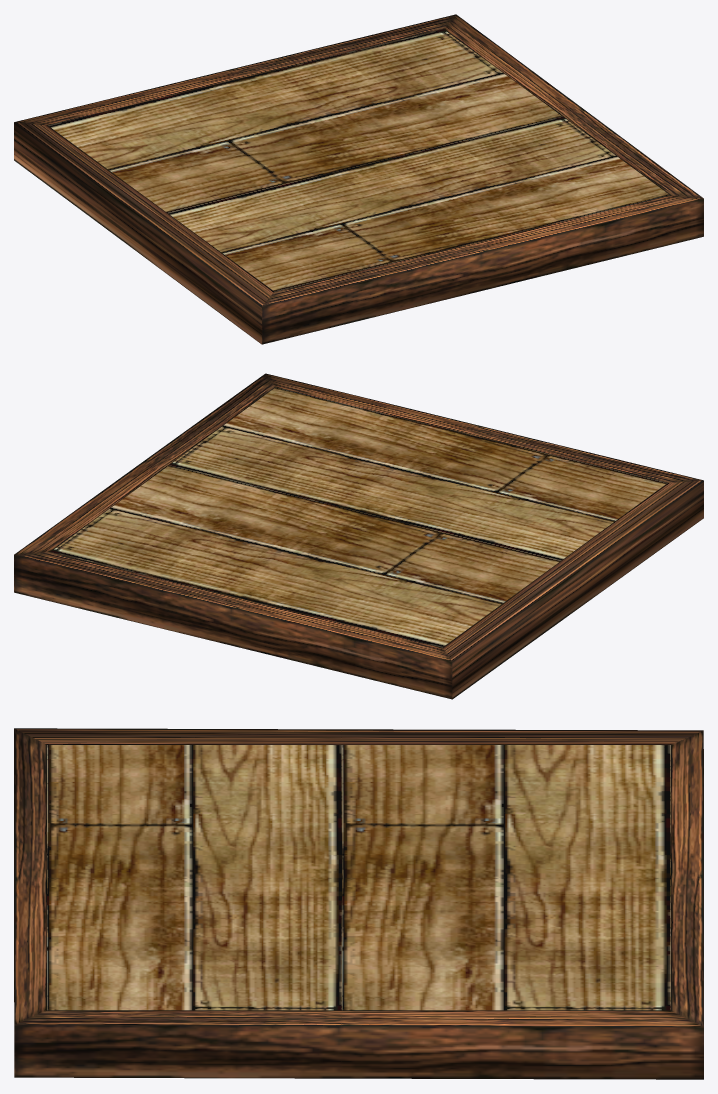
File: INST_WH_PLATFORM1_01.fbx
3 renders of one model, top to bottom at view 1: azimuth 30°, elevation 25°; view 2: azimuth 150°, elevation 25°; view 3: azimuth 270°, elevation 25°, orthographic. The views are drawn at different scales.
Visible parts, largest first — view 1: INST_WH_PLATFORM1_01; view 2: INST_WH_PLATFORM1_01; view 3: INST_WH_PLATFORM1_01.
Boxes of the visible parts, x1,y1,x2,y2 form: INST_WH_PLATFORM1_01: (14, 14, 703, 344); INST_WH_PLATFORM1_01: (14, 373, 703, 699); INST_WH_PLATFORM1_01: (14, 728, 703, 1079).
Size of the model in its own units: 15995 by 1312 by 15612.
Materials: 2 (2 with a texture image).
